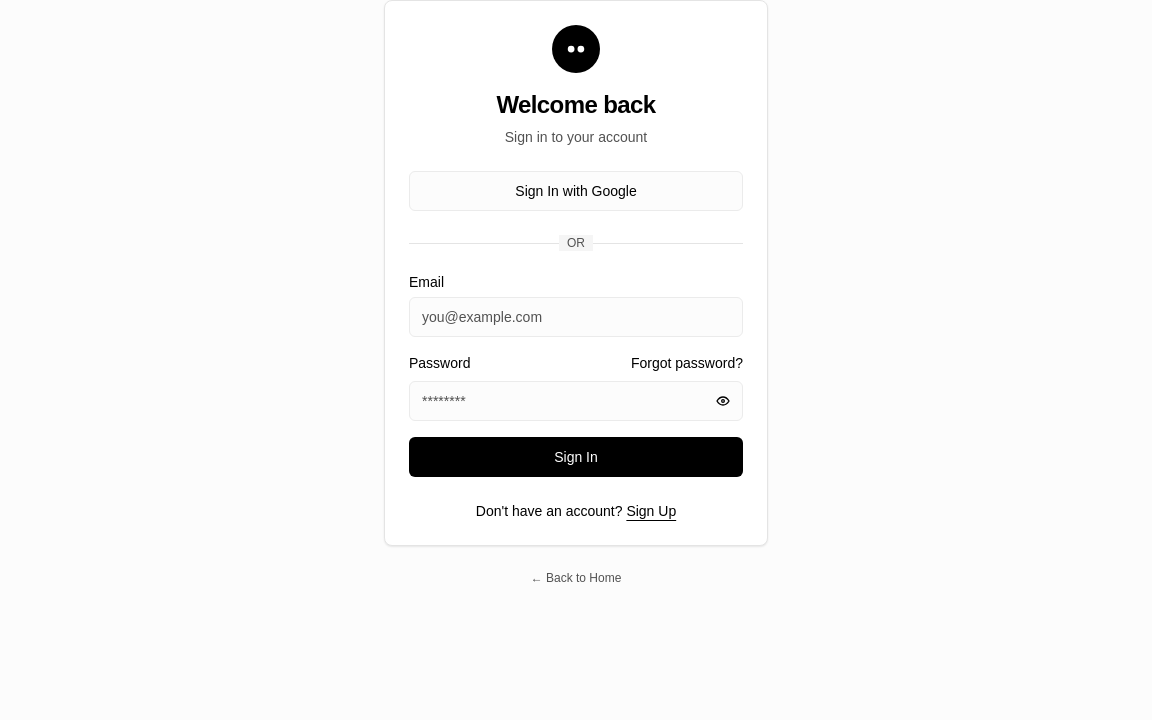
LoginForm › shows the error returned by the auth provider
Type "user@example.com" into the field labelled "Email". click: (576, 317)
box: 409,297 -> 743,337
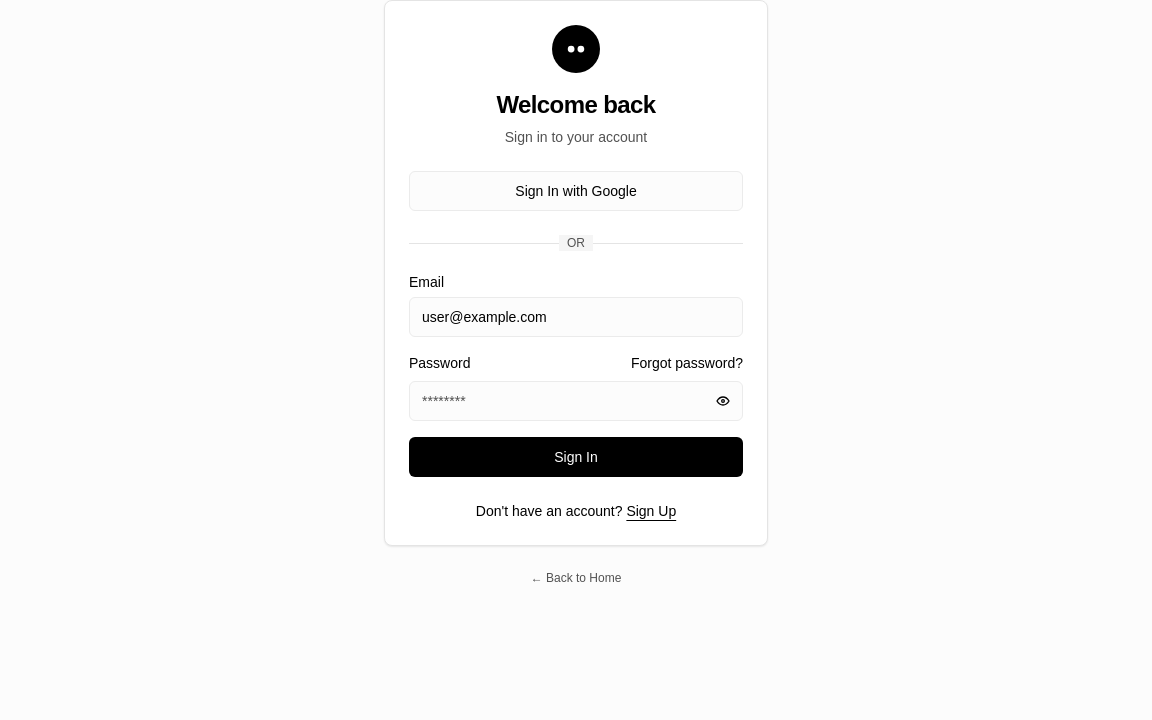
Type "wrong" into the password field labelled "Password". click: (576, 401)
box: 409,381 -> 743,421
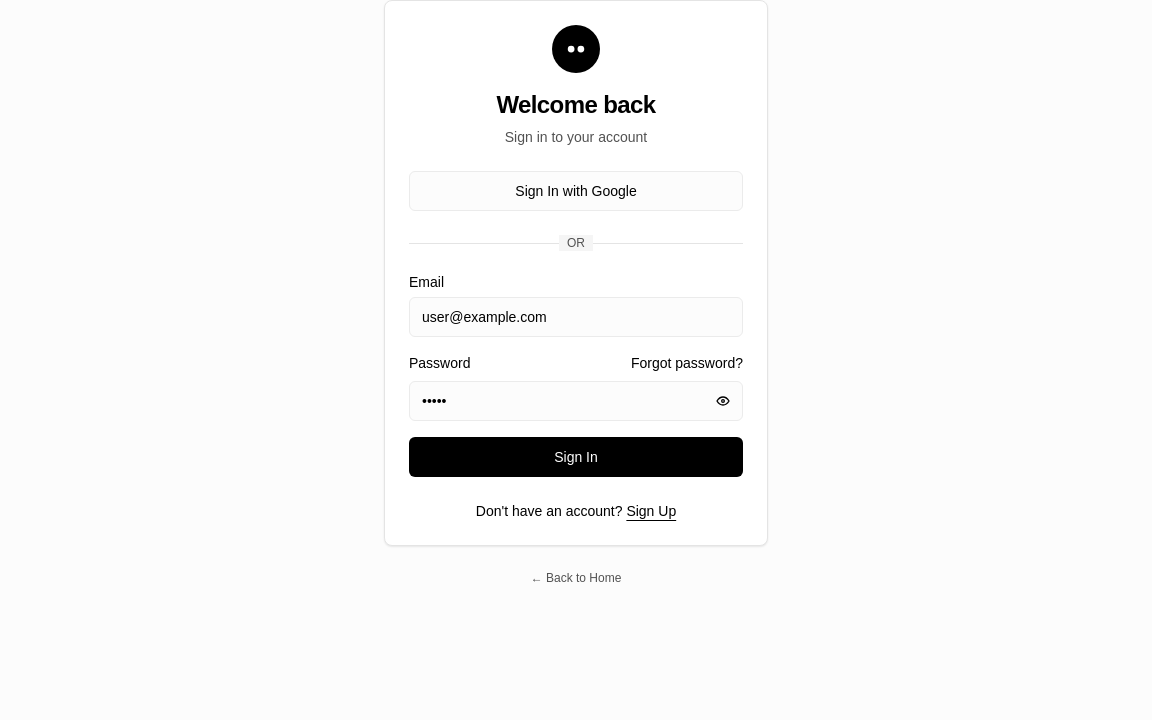
Click the button "Sign In". click: (576, 457)
box: 409,437 -> 743,477
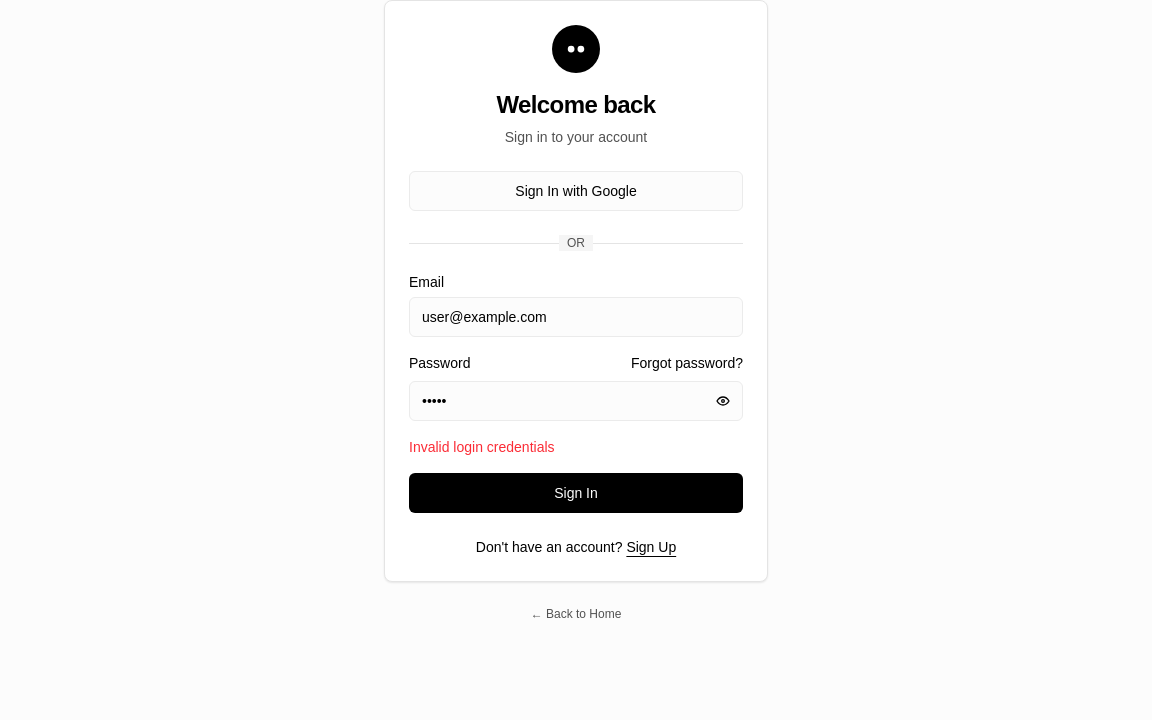
Check: the text "Invalid login credentials" is shown, box 409,439 -> 554,455
